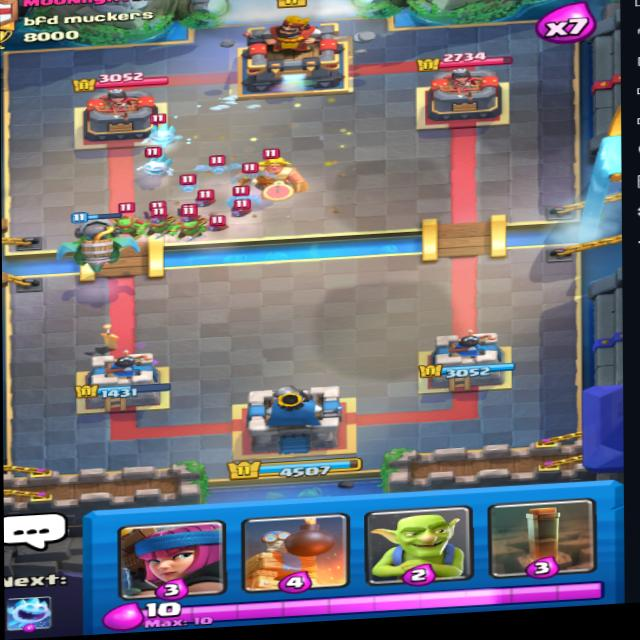bats: (182, 213, 238, 240), (220, 198, 266, 221), (190, 186, 218, 211)
golden-knight: (232, 148, 325, 199)
ice-spirit: (129, 142, 185, 183)
spear-goblin: (144, 200, 178, 236), (109, 208, 145, 240), (177, 209, 210, 240)
